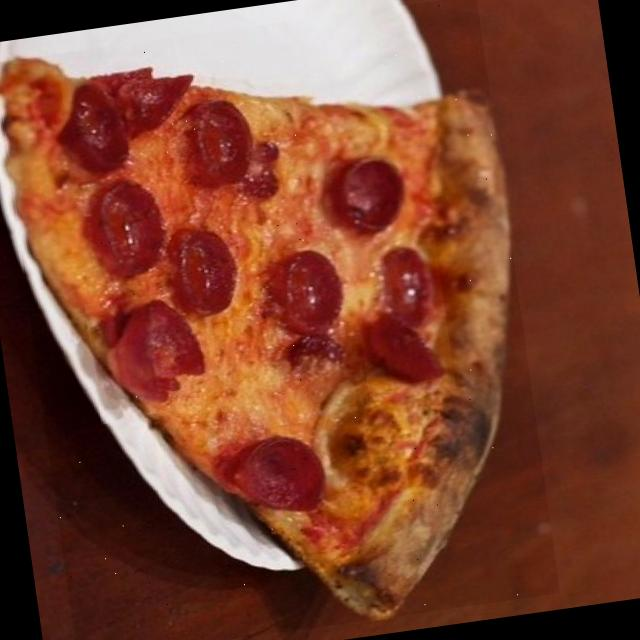cheese: (213, 350, 310, 445), (279, 110, 395, 162), (215, 195, 322, 242)
pepperoni: (57, 46, 207, 172), (84, 288, 222, 424), (348, 238, 453, 401), (206, 420, 333, 528), (256, 242, 360, 348), (82, 182, 188, 284), (320, 148, 422, 250), (163, 215, 249, 328), (186, 102, 268, 197)
pizza: (0, 60, 508, 619)
